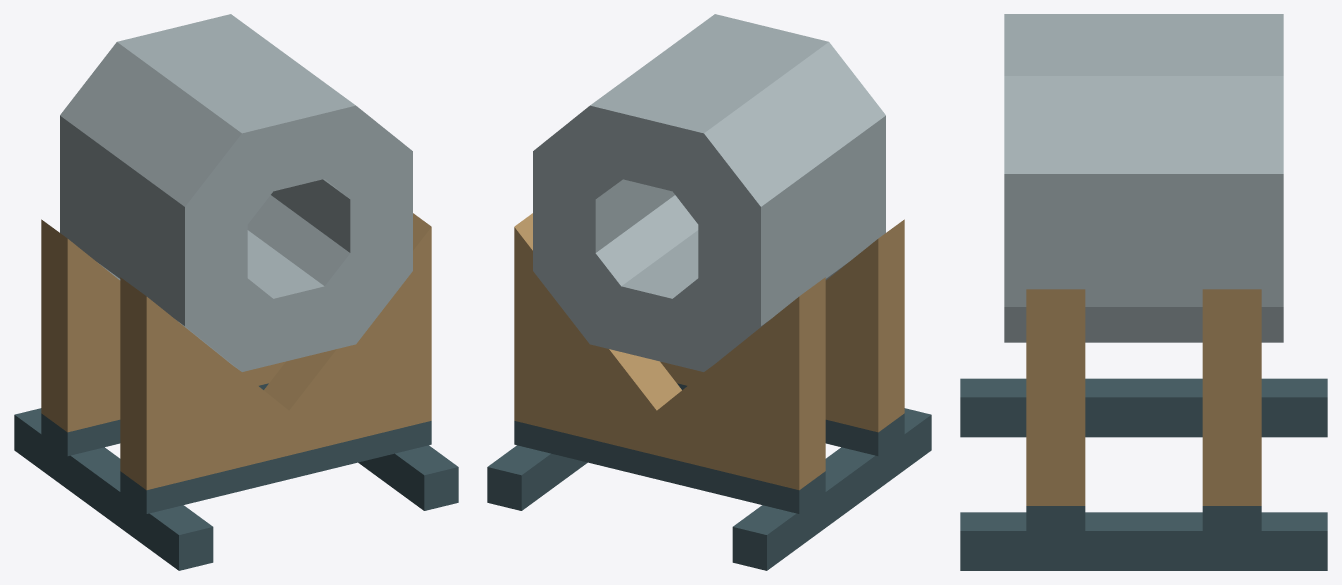
3 renders of one model, left to right at view 1: azimuth 30°, elevation 25°; view 2: azimuth 150°, elevation 25°; view 3: azimuth 270°, elevation 25°, orthographic. The views are drawn at different scales.
Visible parts, largest first — view 1: WholeAxiallyOpenAnnularCargoRoll, FrontCompleteVSaddle, RearCompleteVSaddle, LeftWholeGroundSkid, FrontWholeCrossSill, RightWholeGroundSkid, RearWholeCrossSill; view 2: WholeAxiallyOpenAnnularCargoRoll, RearCompleteVSaddle, FrontCompleteVSaddle, LeftWholeGroundSkid, RearWholeCrossSill, RightWholeGroundSkid, FrontWholeCrossSill; view 3: WholeAxiallyOpenAnnularCargoRoll, RightWholeGroundSkid, LeftWholeGroundSkid, FrontCompleteVSaddle, RearCompleteVSaddle, FrontWholeCrossSill, RearWholeCrossSill.
Part boxes in pixels (x1,y1,x2,y2): WholeAxiallyOpenAnnularCargoRoll: [60, 14, 412, 371]; FrontCompleteVSaddle: [120, 213, 431, 490]; RearCompleteVSaddle: [41, 219, 285, 432]; LeftWholeGroundSkid: [14, 408, 213, 570]; FrontWholeCrossSill: [120, 421, 431, 513]; RightWholeGroundSkid: [358, 445, 458, 510]; RearWholeCrossSill: [41, 383, 268, 456]; WholeAxiallyOpenAnnularCargoRoll: [533, 14, 885, 371]; RearCompleteVSaddle: [514, 213, 825, 490]; FrontCompleteVSaddle: [660, 219, 904, 432]; LeftWholeGroundSkid: [732, 408, 931, 570]; RearWholeCrossSill: [514, 421, 825, 513]; RightWholeGroundSkid: [487, 445, 587, 510]; FrontWholeCrossSill: [677, 383, 904, 456]; WholeAxiallyOpenAnnularCargoRoll: [1004, 14, 1283, 342]; RightWholeGroundSkid: [960, 512, 1327, 570]; LeftWholeGroundSkid: [960, 378, 1327, 437]; FrontCompleteVSaddle: [1026, 289, 1085, 505]; RearCompleteVSaddle: [1202, 289, 1261, 505]; FrontWholeCrossSill: [1026, 506, 1085, 532]; RearWholeCrossSill: [1202, 506, 1261, 532].
Bounding box in the file's own units: 1 × 1.35 × 1.
